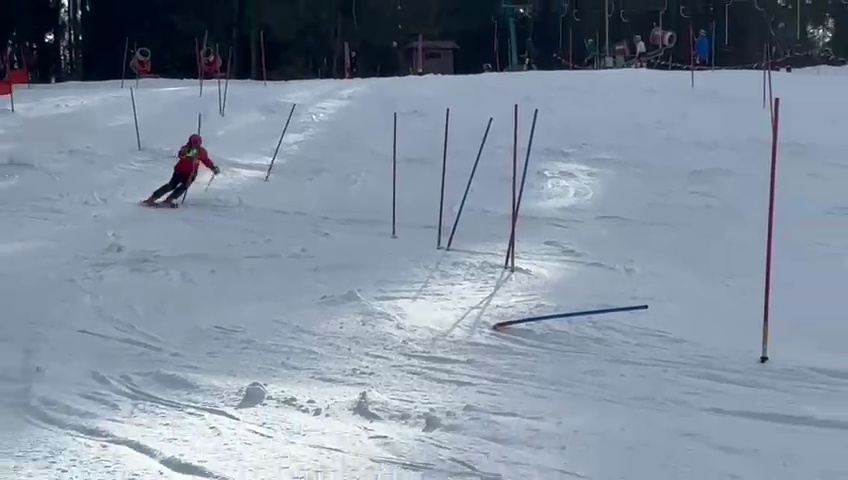gate: (740, 83, 792, 370), (470, 285, 659, 343), (444, 104, 493, 261), (502, 98, 539, 281), (262, 103, 296, 184), (436, 104, 451, 256), (386, 107, 402, 243), (214, 45, 237, 119), (684, 19, 701, 88), (126, 84, 142, 152), (2, 49, 18, 115), (212, 44, 226, 119), (192, 34, 206, 100), (258, 27, 271, 88), (116, 33, 130, 88), (342, 40, 353, 82)
